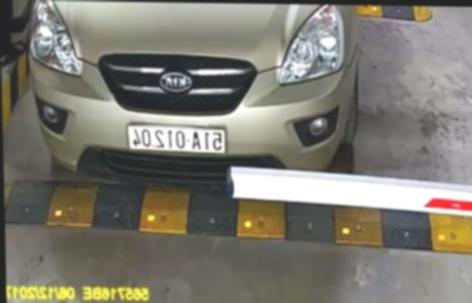License_Plate: (116, 118, 231, 162)
